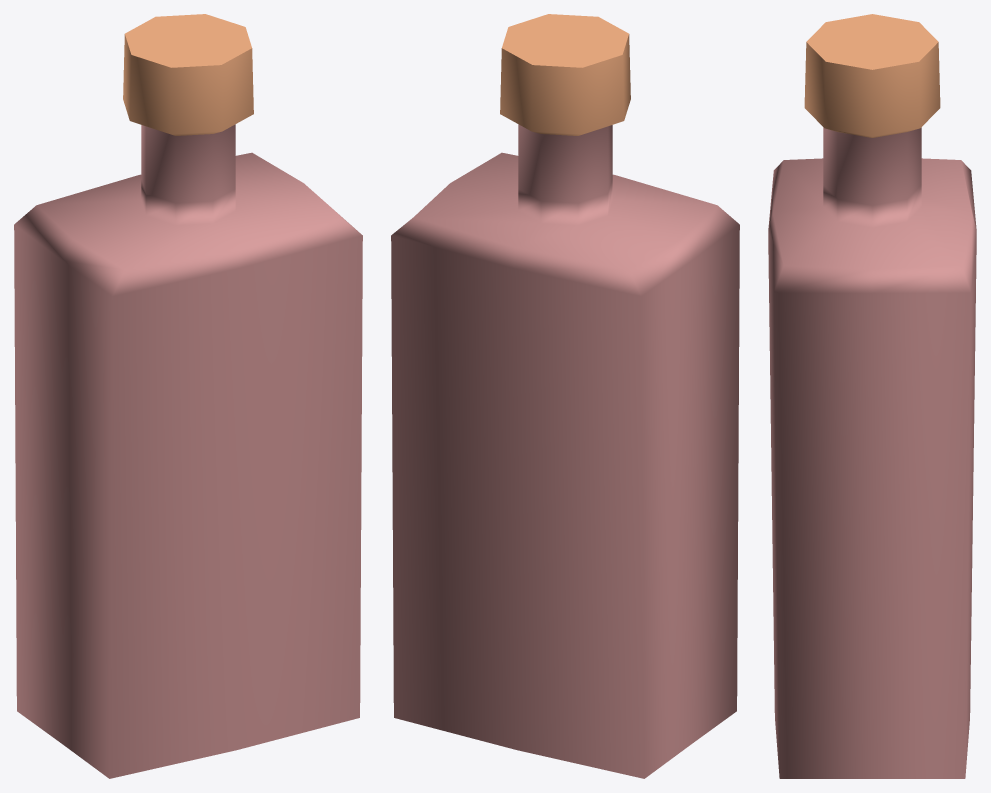
File: BAR_LiqourBottle08_Body.fbx
3 renders of one model, left to right at view 1: azimuth 30°, elevation 25°; view 2: azimuth 150°, elevation 25°; view 3: azimuth 270°, elevation 25°, orthographic.
Visible parts, largest first — view 1: Bottle08_Body; view 2: Bottle08_Body; view 3: Bottle08_Body.
Boxes of the visible parts, x1,y1,x2,y2 form: Bottle08_Body: (14, 14, 362, 778); Bottle08_Body: (391, 14, 739, 778); Bottle08_Body: (768, 14, 976, 778).
Bounding box in the file's own units: 8.09 × 20.62 × 5.77.
